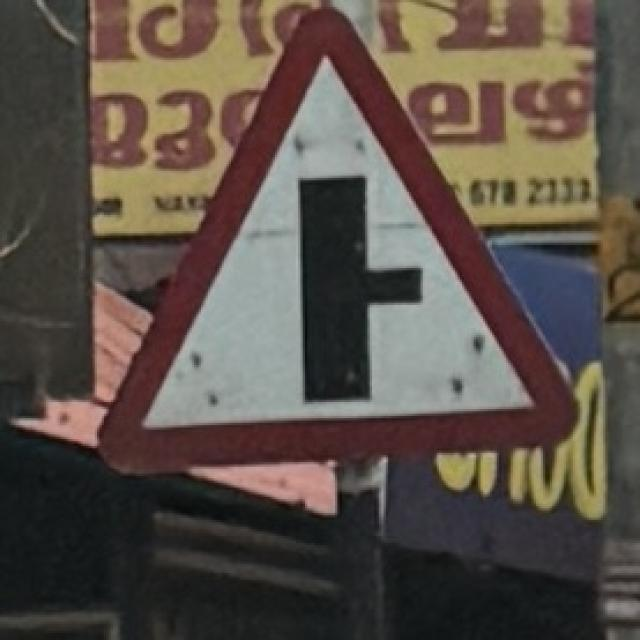SIDE_ROAD_RIGHT: (64, 2, 589, 492)
